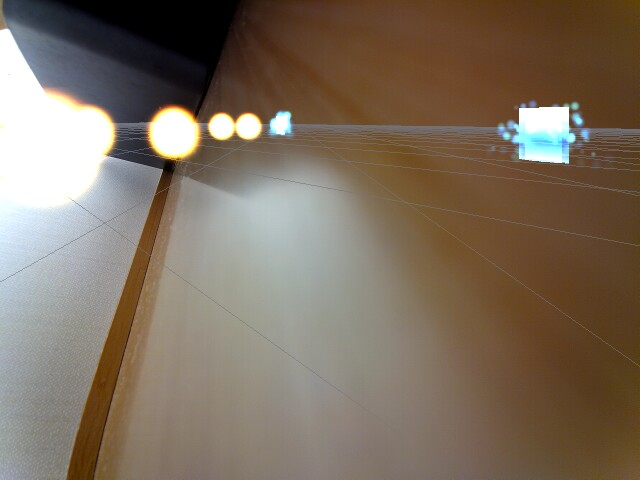firebig: (0, 73, 83, 210)
